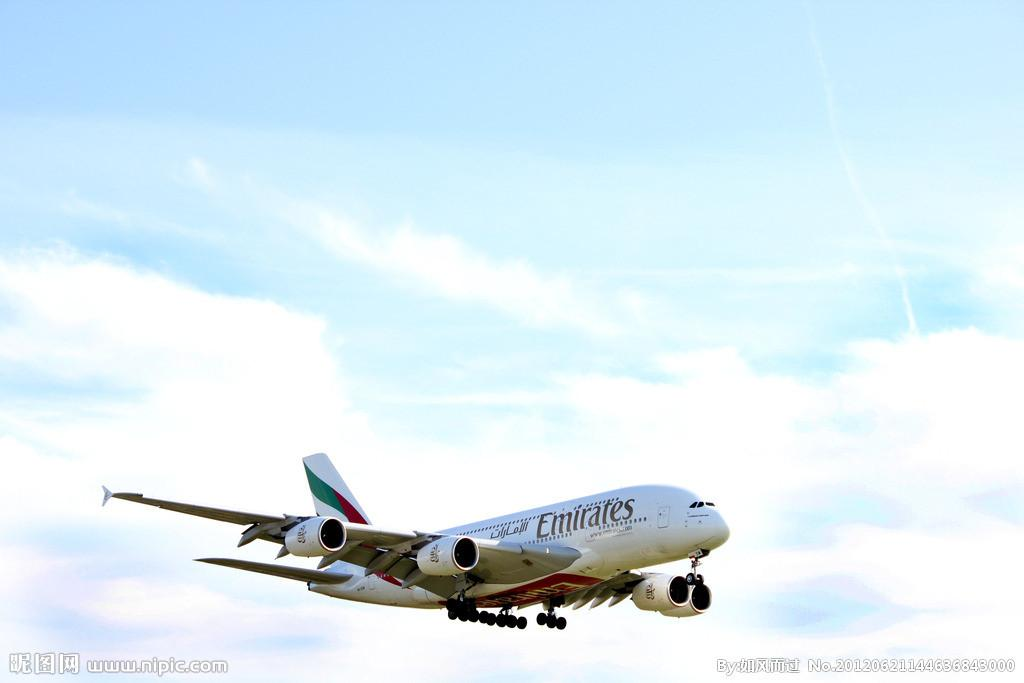airplane: (78, 448, 758, 642)
